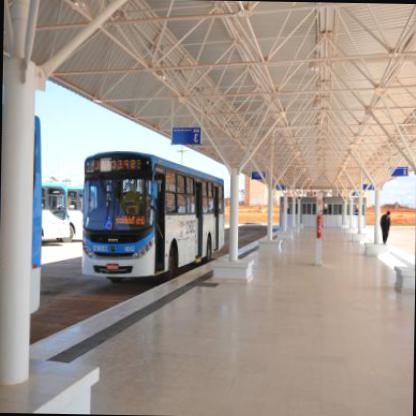bus: (82, 147, 227, 279), (0, 95, 44, 348), (40, 180, 70, 240), (68, 184, 98, 242)
